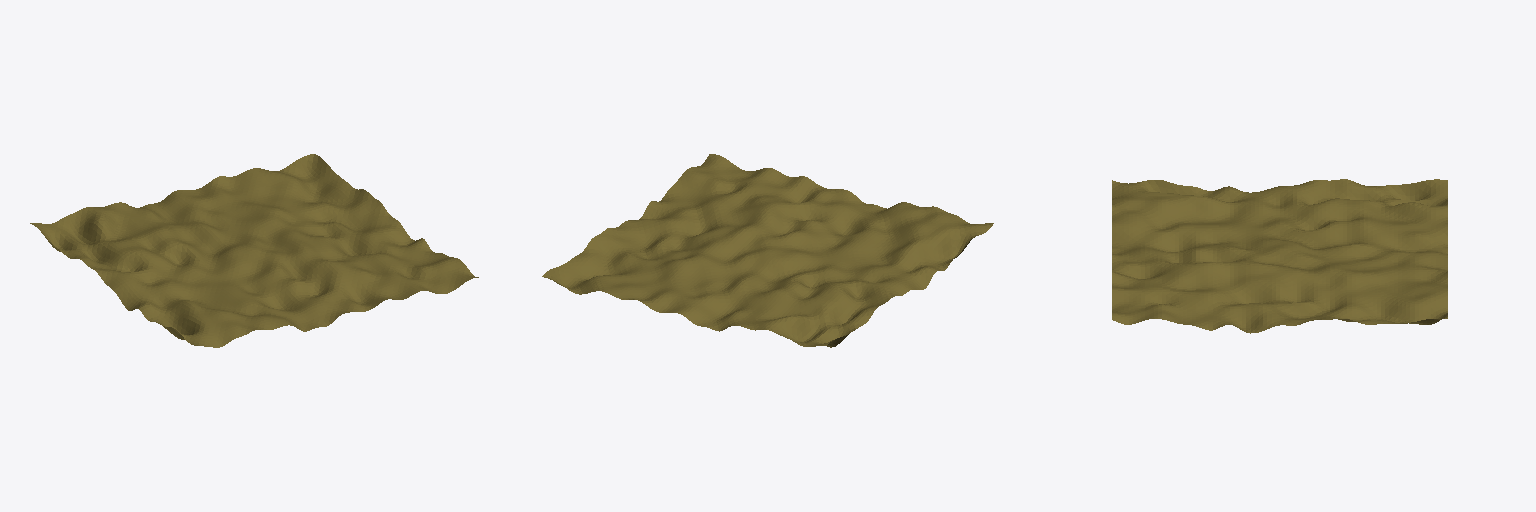
The model's file is back.obj.
3 renders of one model, left to right at view 1: azimuth 30°, elevation 25°; view 2: azimuth 150°, elevation 25°; view 3: azimuth 270°, elevation 25°, orthographic.
Parts seen in each view (by area): view 1: desert_obj_Plane01; view 2: desert_obj_Plane01; view 3: desert_obj_Plane01.
Boxes of the visible parts, box(x1,y1,x2,y2) form: desert_obj_Plane01: box(30, 154, 478, 347); desert_obj_Plane01: box(542, 154, 993, 347); desert_obj_Plane01: box(1112, 179, 1447, 333).
Bounding box in the file's own units: 116 × 8.52 × 119.